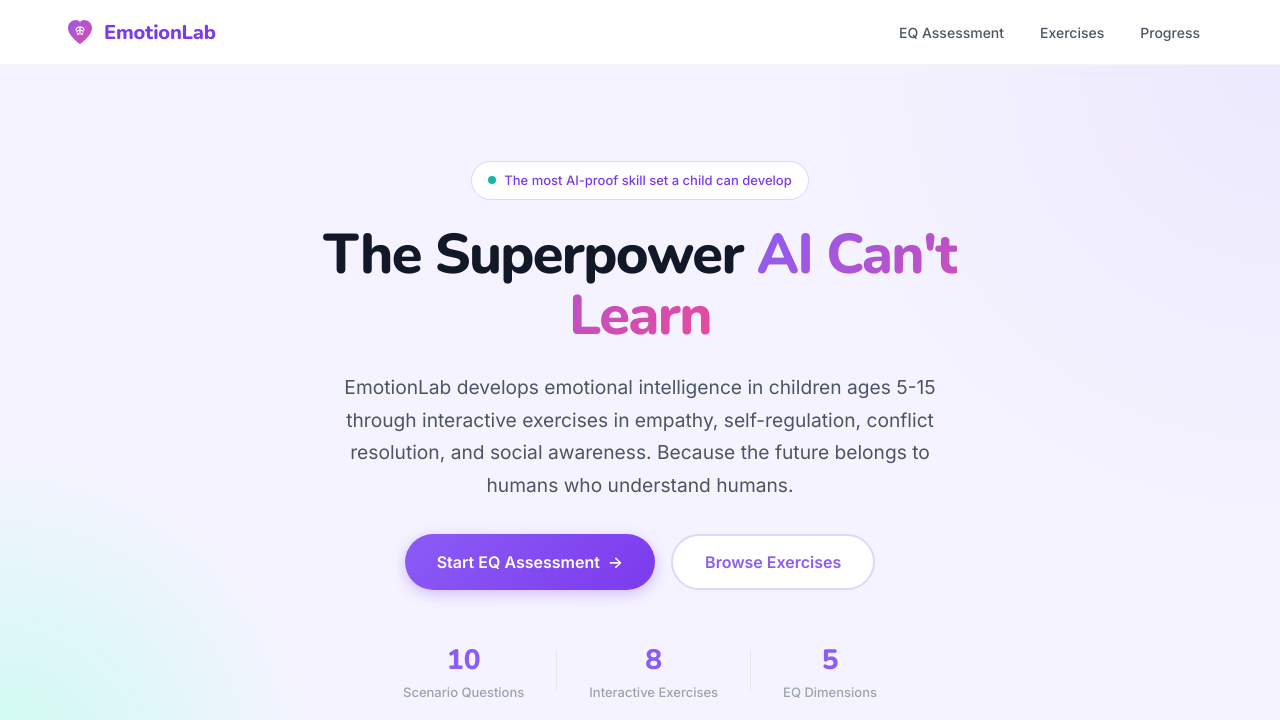
App › navigates to exercises page
Click the button "Exercises": (1072, 32) [1024, 16, 1120, 48]
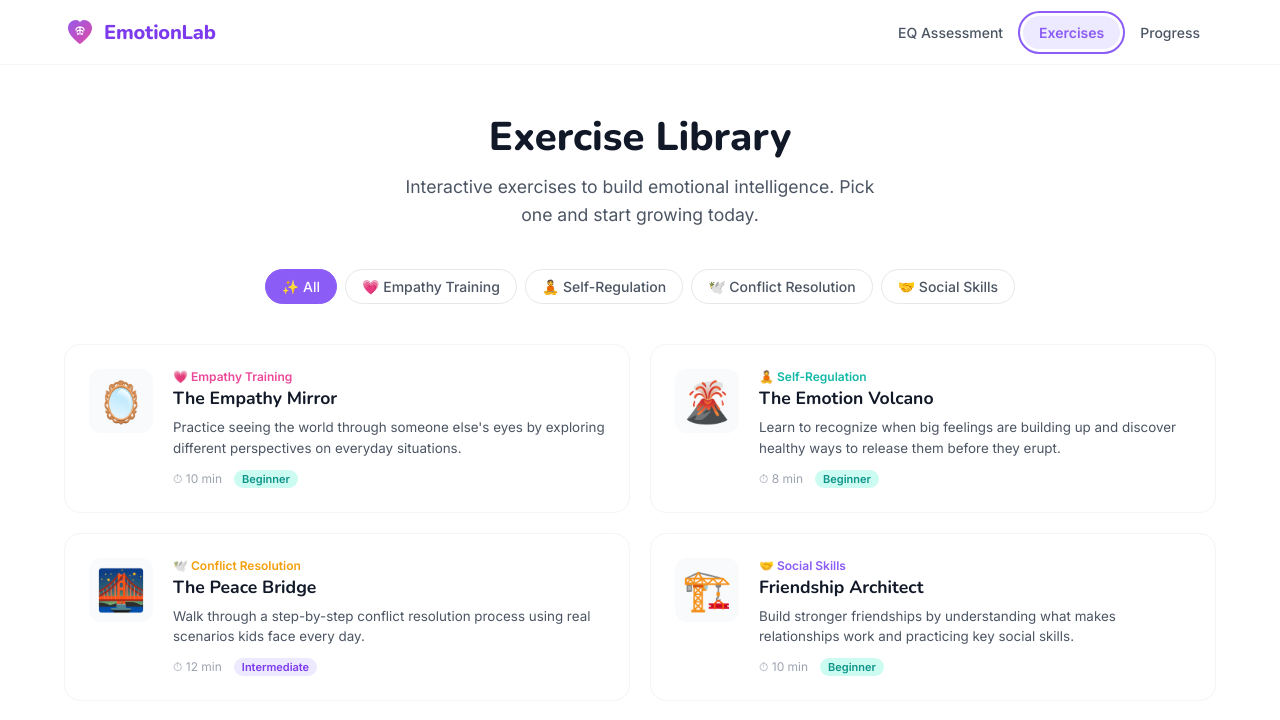
Expected: the heading "Exercise Library" is shown, [489, 110, 791, 164]
